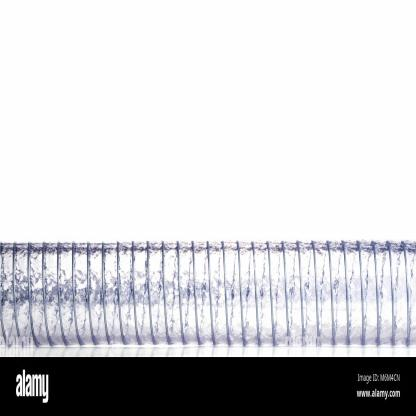PVC: (0, 239, 415, 351)
